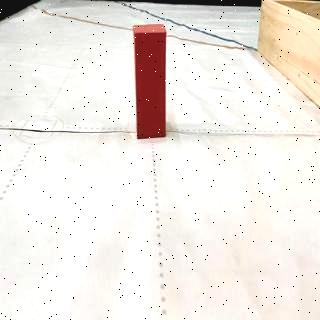redbox: (134, 24, 168, 139)
